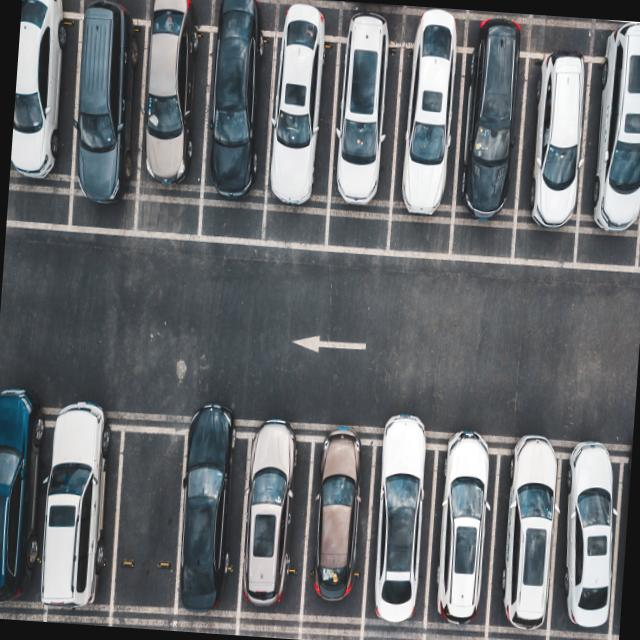car: (34, 396, 121, 610), (66, 0, 149, 198), (132, 0, 214, 195), (198, 2, 276, 200), (233, 420, 312, 613), (172, 413, 248, 612), (260, 16, 339, 206), (362, 427, 438, 618), (389, 27, 466, 214), (454, 28, 530, 217), (325, 24, 403, 207), (425, 432, 501, 618), (516, 43, 594, 224), (489, 441, 564, 628), (300, 431, 374, 618), (9, 0, 83, 184), (552, 444, 622, 630), (580, 27, 640, 233), (0, 386, 45, 600)
free: (107, 422, 186, 612)
